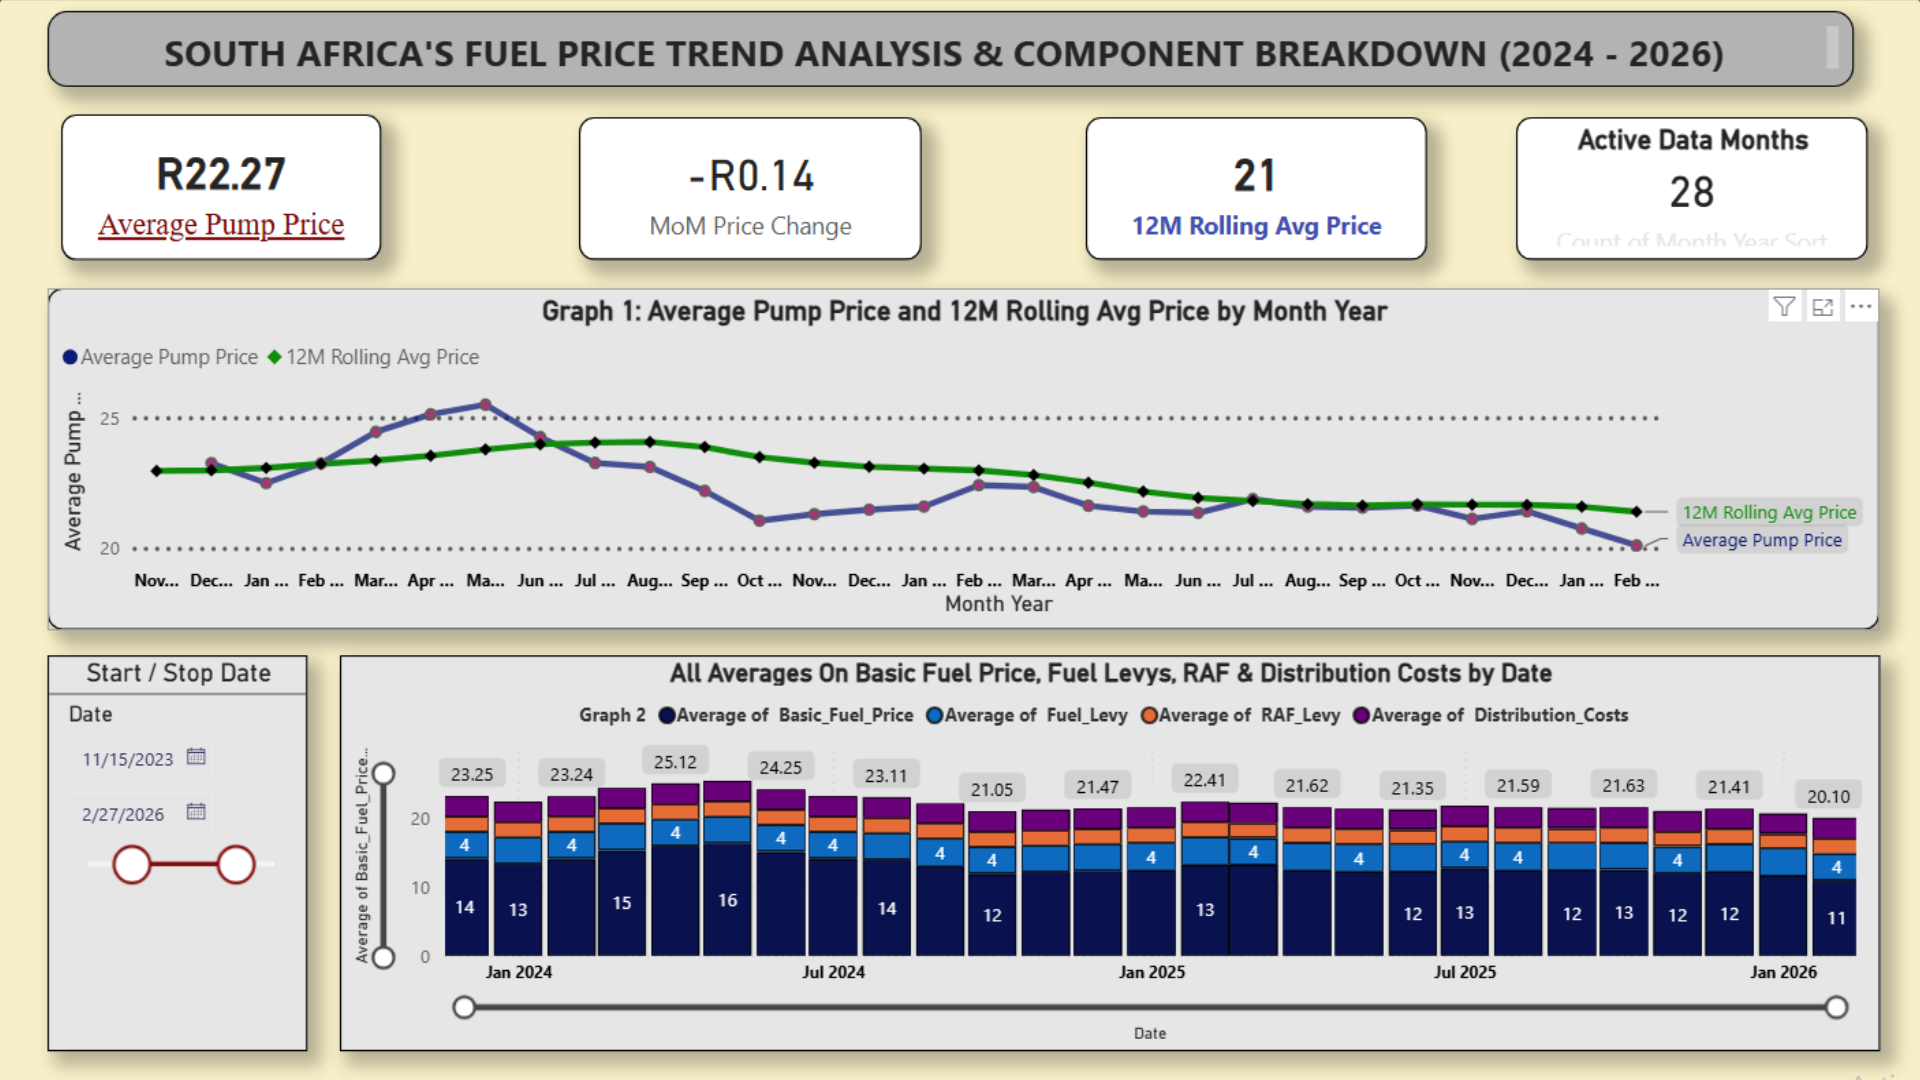

What the dashboard file says about the page in this screenshot:
{"tool":"powerbi","page":{"name":"Page 1","canvas":[1280,720],"ordinal":0},"visuals":[{"type":"card","fields":{"Values":["_Measures.Average Pump Price"]},"box":[25.6,74.3,182.4,134.7],"z":0},{"type":"card","fields":{"Values":["_Measures.MoM Price Change"]},"box":[25.6,232.3,182.4,127.8],"z":1000},{"type":"slicer","fields":{"Values":["Dim_Date.Date"]},"box":[25.7,563.1,182.7,141],"z":2000},{"type":"card","fields":{"Values":["_Measures.12M Rolling Avg Price"]},"box":[25.7,399.9,181.8,125],"z":3000},{"type":"lineChart","fields":{"Category":["Dim_Date.Month Year"],"Y":["_Measures.Average Pump Price","_Measures.12M Rolling Avg Price"]},"box":[268.7,97.5,990.4,250.9],"z":4000},{"type":"columnChart","fields":{"Y":["Avg(Petrol_Pulse_Breakdown_History. Basic_Fuel_Price )","Avg(Petrol_Pulse_Breakdown_History. Fuel_Levy )","Avg(Petrol_Pulse_Breakdown_History. RAF_Levy )","Avg(Petrol_Pulse_Breakdown_History. Distribution_Costs )"],"Category":["Dim_Date.Date"]},"box":[268.7,432.7,990.4,271.3],"z":5000},{"type":"textbox","box":[443.3,62.1,618,35.5],"z":6000},{"type":"textbox","box":[443.3,399.9,618,32.8],"z":7000}]}

Visuals, with their boxes in screenshot pixels (x1, y1, x2, y2), scaled from the page's 1280x720 canvas onto the 1920x1080 screenshot:
card - _Measures.Average Pump Price: Rect(38, 111, 312, 314)
card - _Measures.MoM Price Change: Rect(38, 348, 312, 540)
slicer - Dim_Date.Date: Rect(39, 845, 313, 1056)
card - _Measures.12M Rolling Avg Price: Rect(39, 600, 311, 787)
lineChart - Dim_Date.Month Year x _Measures.Average Pump Price: Rect(403, 146, 1889, 523)
columnChart - Avg(Petrol_Pulse_Breakdown_History. Basic_Fuel_Price ) x Avg(Petrol_Pulse_Breakdown_History. Fuel_Levy ): Rect(403, 649, 1889, 1056)
textbox: Rect(665, 93, 1592, 146)
textbox: Rect(665, 600, 1592, 649)
